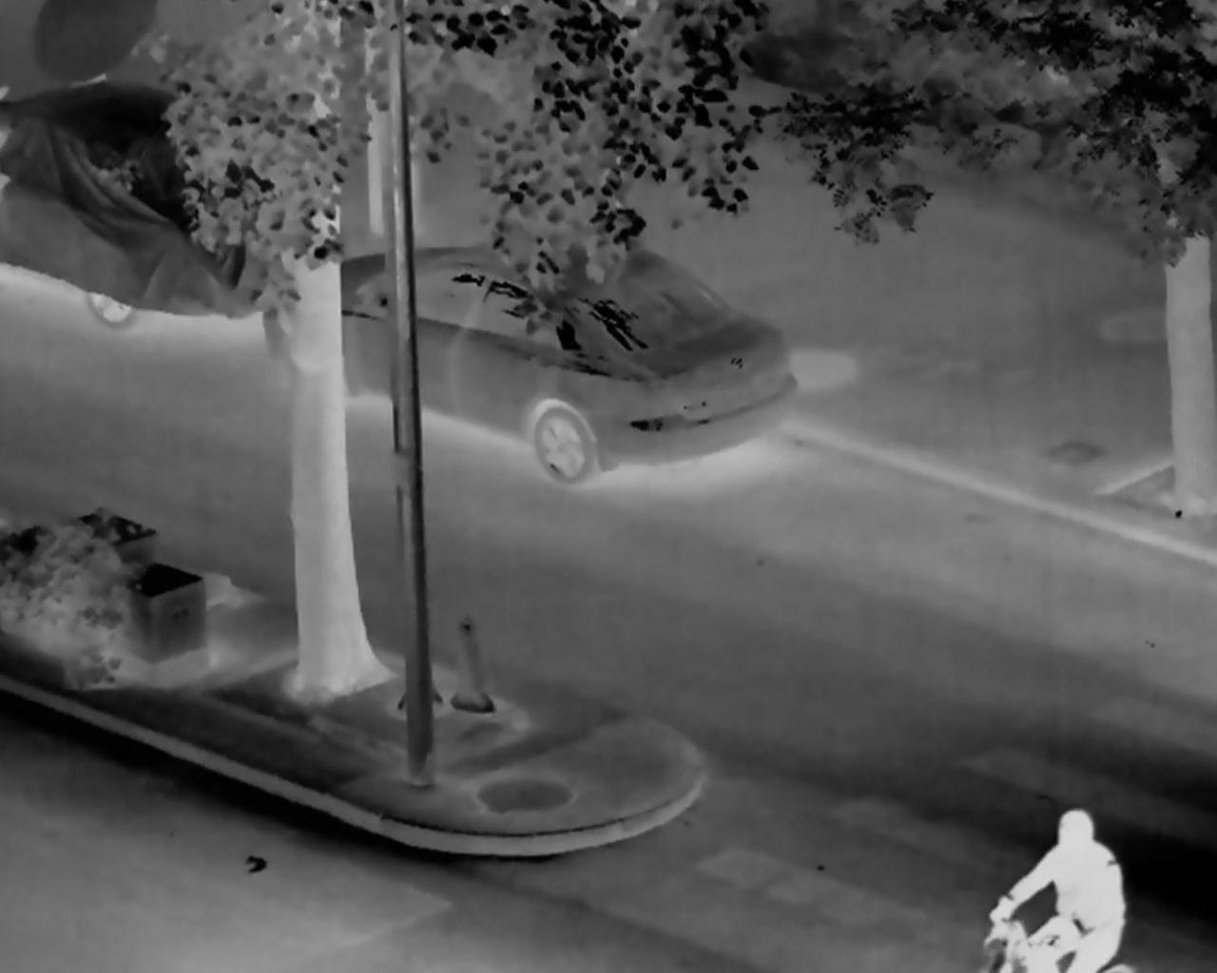person: (990, 805, 1123, 973)
